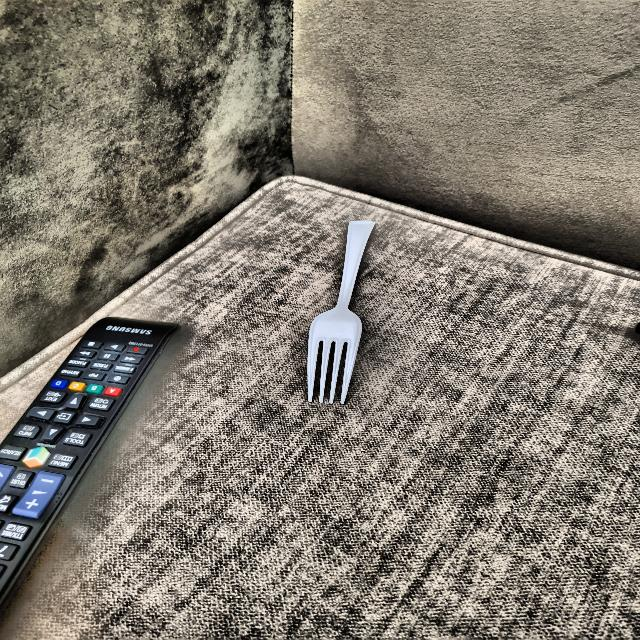plastic utensil: (297, 218, 382, 404)
